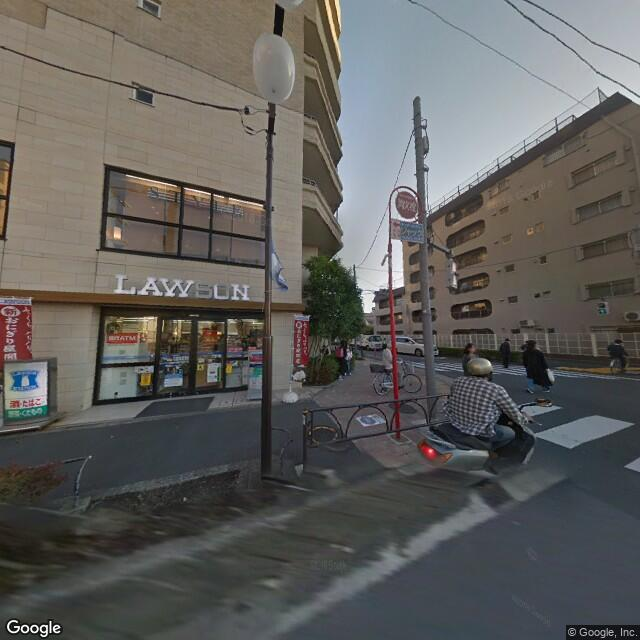lawson: (107, 269, 254, 307), (6, 365, 45, 393)
